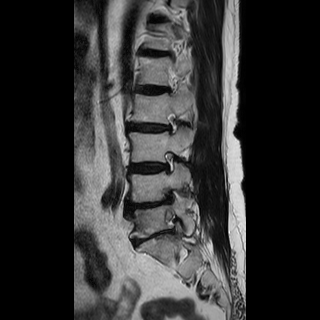RFS0: (158, 144, 179, 178), (161, 107, 181, 139)
